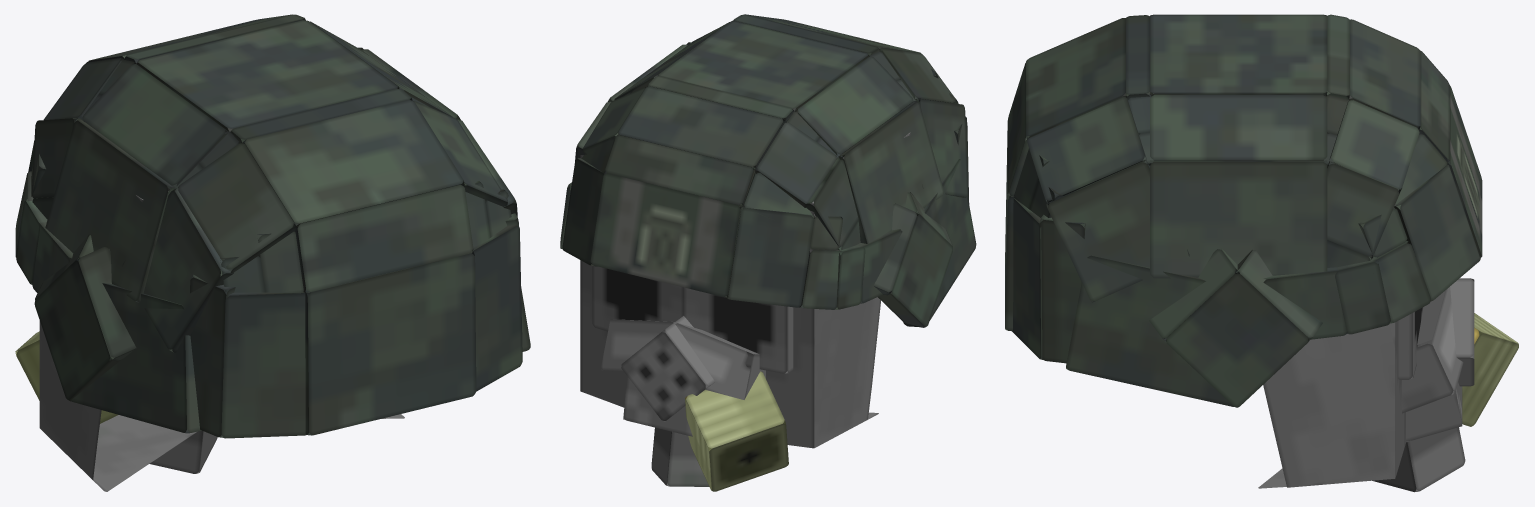
The model's file is hazard_kit_h.obj.
The picture shows the model from 3 angles, left to right: view 1: azimuth 30°, elevation 25°; view 2: azimuth 150°, elevation 25°; view 3: azimuth 270°, elevation 25°; orthographic projection. The views are drawn at different scales.
Visible parts, largest first — view 1: mesh; view 2: mesh; view 3: mesh.
Part boxes in pixels (x1,y1,x2,y2): mesh: [15, 14, 530, 491]; mesh: [560, 14, 976, 491]; mesh: [1005, 14, 1518, 492].
Bounding box in the file's own units: 0.7821 × 0.8378 × 0.9174.
